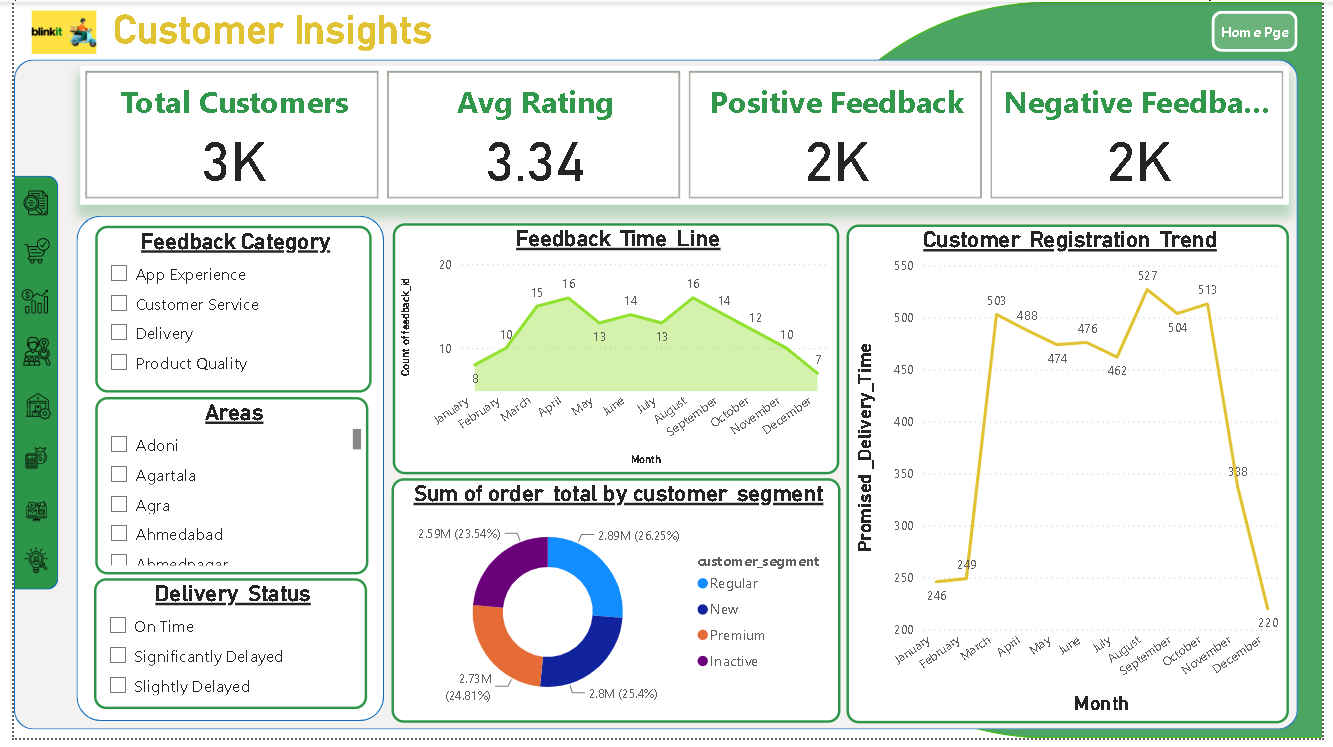

The dashboard page shown, as its layout file describes it:
{"tool":"powerbi","page":{"name":"Customer Insights","canvas":[1280,720],"ordinal":4},"visuals":[{"type":"group","id":"g1","title":"Group 2","box":[0,0,1280,720.2],"z":0},{"type":"shape","box":[60.7,209.6,300.9,494.4],"z":0,"group":"g2"},{"type":"shape","box":[740.7,0,539.3,720.2],"z":1000,"group":"g1"},{"type":"image","box":[8.6,3.7,80.7,52.6],"z":1000},{"type":"slicer","title":"Areas","fields":{"Values":["blinkit_customers.area"]},"box":[78.8,386.8,267.3,173.3],"z":1000,"group":"g2"},{"type":"textbox","title":"Customer  Insights","box":[91.7,3.7,330.2,52.6],"z":2000},{"type":"shape","box":[0,56.3,1255.8,655.4],"z":2000,"group":"g1"},{"type":"slicer","title":"Delivery_Status","fields":{"Values":["blinkit_delivery_performance.delivery_status"]},"box":[78.2,564.3,267.3,127.6],"z":2000,"group":"g2"},{"type":"cardVisual","fields":{"Data":["blinkit_customer_feedback.Total Customers","blinkit_customer_feedback.Avg Rating","blinkit_customer_feedback.Positive Feedback","blinkit_customer_feedback.Negative Feedback"]},"box":[64.5,61.8,1182.2,135.7],"z":3000},{"type":"slicer","title":"Feedback Category","fields":{"Values":["blinkit_customer_feedback.feedback_category"]},"box":[78.8,219.9,270,163.4],"z":3000,"group":"g2"},{"type":"lineChart","title":"Customer_Registration_Trend","fields":{"Category":["blinkit_customers.registration_date.Variation.Date Hierarchy.Month"],"Y":["CountNonNull(blinkit_customer_feedback.customer_id)"]},"box":[814.1,217.6,432.6,487.7],"z":4000},{"type":"areaChart","title":"Feedback_Time_Line","fields":{"Category":["blinkit_customer_feedback.feedback_date.Variation.Date Hierarchy.Month","blinkit_customer_feedback.feedback_date.Variation.Date Hierarchy.Day"],"Y":["CountNonNull(blinkit_customer_feedback.feedback_id)"]},"box":[370.8,216.3,436.6,245.8],"z":5000},{"type":"donutChart","fields":{"Category":["blinkit_customers.customer_segment"],"Y":["Sum(blinkit_orders.order_total)"]},"box":[369.4,466.2,439.3,239.1],"z":6000},{"type":"shape","box":[0,170,43.2,404.8],"z":7000,"group":"g3"},{"type":"group","id":"g2","title":"Group 2","box":[60.7,209.6,300.9,494.4],"z":7000},{"type":"group","id":"g3","title":"Group 1","box":[0,170,46.5,404.8],"z":8000},{"type":"shape","box":[1171.5,8.6,84.4,40.4],"z":9000},{"type":"image","box":[0.8,179.2,40,34],"z":9000,"group":"g3"},{"type":"image","box":[0.8,226.5,42.1,34.8],"z":10000,"group":"g3"},{"type":"image","box":[0.8,274.6,38.9,35.7],"z":11000,"group":"g3"},{"type":"image","box":[0.8,322.7,42.1,38.2],"z":12000,"group":"g3"},{"type":"image","box":[0.8,377.4,45.4,35.7],"z":13000,"group":"g3"},{"type":"image","box":[0.8,430.5,41.1,31.5],"z":14000,"group":"g3"},{"type":"image","box":[0.8,483.6,42.1,30.7],"z":15000,"group":"g3"},{"type":"image","box":[1.9,528.4,38.9,35.7],"z":16000,"group":"g3"}]}

Visuals, with their boxes on the page's 1280x720 design canvas (x1, y1, x2, y2). These are canvas units, not pixel positions in the 1333x747 screenshot, which may show the page scaled, cropped or inside an application window:
"Group 2" group: (left=0, top=0, right=1280, bottom=720)
shape: (left=61, top=210, right=362, bottom=704)
shape: (left=741, top=0, right=1280, bottom=720)
image: (left=9, top=4, right=89, bottom=56)
"Areas" slicer: (left=79, top=387, right=346, bottom=560)
"Customer  Insights" textbox: (left=92, top=4, right=422, bottom=56)
shape: (left=0, top=56, right=1256, bottom=712)
"Delivery_Status" slicer: (left=78, top=564, right=346, bottom=692)
cardVisual - blinkit_customer_feedback.Total Customers x blinkit_customer_feedback.Avg Rating: (left=64, top=62, right=1247, bottom=198)
"Feedback Category" slicer: (left=79, top=220, right=349, bottom=383)
"Customer_Registration_Trend" lineChart: (left=814, top=218, right=1247, bottom=705)
"Feedback_Time_Line" areaChart: (left=371, top=216, right=807, bottom=462)
donutChart - blinkit_customers.customer_segment x Sum(blinkit_orders.order_total): (left=369, top=466, right=809, bottom=705)
shape: (left=0, top=170, right=43, bottom=575)
"Group 2" group: (left=61, top=210, right=362, bottom=704)
"Group 1" group: (left=0, top=170, right=46, bottom=575)
shape: (left=1172, top=9, right=1256, bottom=49)
image: (left=1, top=179, right=41, bottom=213)
image: (left=1, top=226, right=43, bottom=261)
image: (left=1, top=275, right=40, bottom=310)
image: (left=1, top=323, right=43, bottom=361)
image: (left=1, top=377, right=46, bottom=413)
image: (left=1, top=430, right=42, bottom=462)
image: (left=1, top=484, right=43, bottom=514)
image: (left=2, top=528, right=41, bottom=564)
